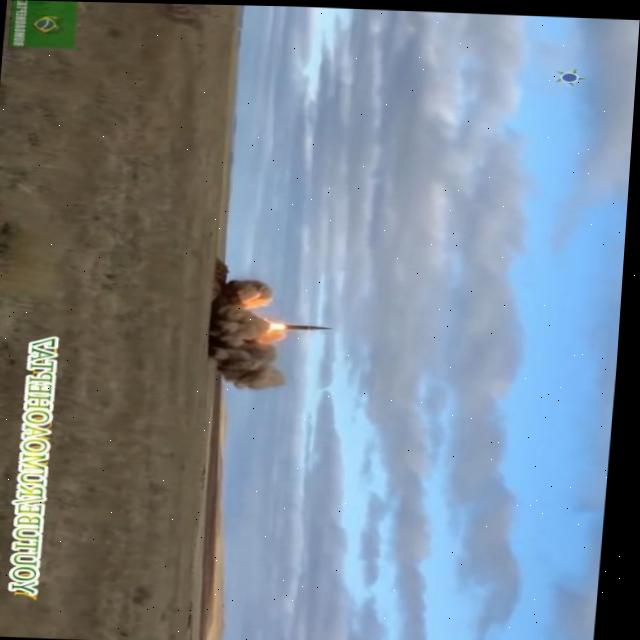missile: (286, 320, 338, 332)
